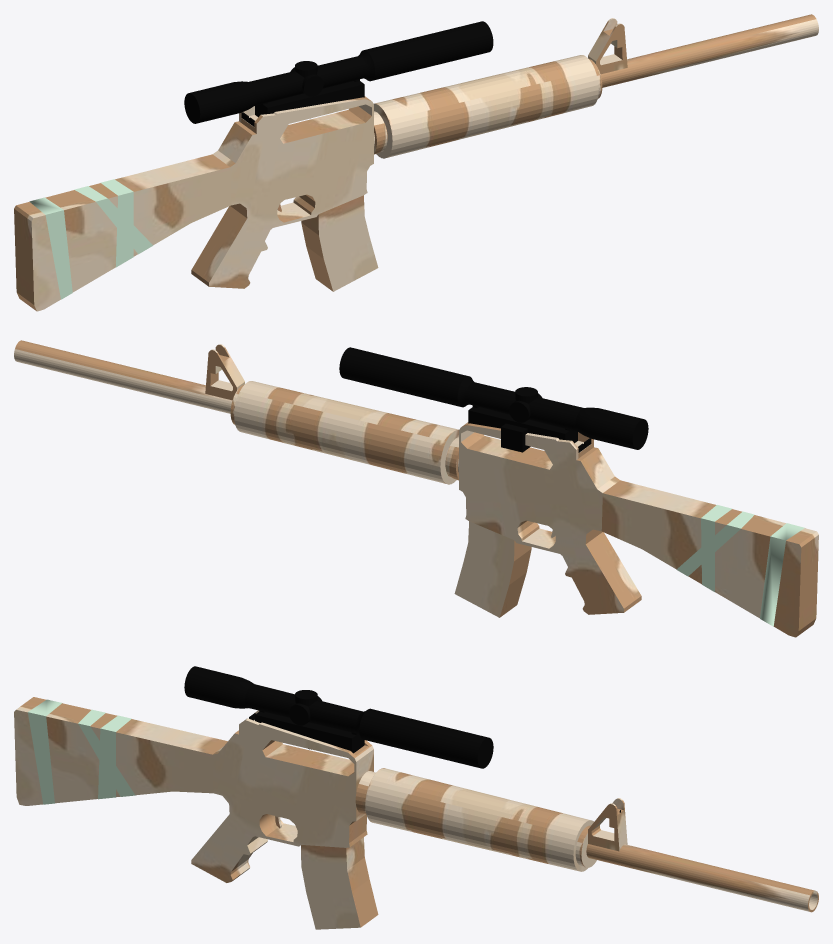
Rendered from M16_Sniper.obj.
The picture shows the model from 3 angles, top to bottom: view 1: azimuth 30°, elevation 25°; view 2: azimuth 150°, elevation 25°; view 3: azimuth 330°, elevation 25°; orthographic projection.
Parts seen in each view (by area): view 1: Рукоять_, Приклад, Рукоять, Прицел, Магазин, Дуло, Обмотка_на_прикладе, Стойка_Для_Мушки; view 2: Рукоять_, Приклад, Рукоять, Прицел, Магазин, Дуло, Обмотка_на_прикладе, Стойка_Для_Мушки; view 3: Рукоять_, Приклад, Рукоять, Прицел, Магазин, Дуло, Обмотка_на_прикладе, Стойка_Для_Мушки.
Boxes of the visible parts, left/top/right/bottom form: Рукоять_: left=191, top=96, right=373, bottom=288; Приклад: left=14, top=154, right=231, bottom=311; Рукоять: left=374, top=55, right=598, bottom=158; Прицел: left=184, top=21, right=493, bottom=126; Магазин: left=301, top=195, right=378, bottom=291; Дуло: left=600, top=14, right=818, bottom=87; Обмотка_на_прикладе: left=29, top=179, right=152, bottom=299; Стойка_Для_Мушки: left=588, top=18, right=627, bottom=74; Рукоять_: left=459, top=422, right=641, bottom=614; Приклад: left=601, top=480, right=818, bottom=637; Рукоять: left=234, top=381, right=458, bottom=484; Прицел: left=339, top=347, right=648, bottom=452; Магазин: left=454, top=521, right=531, bottom=617; Дуло: left=14, top=340, right=232, bottom=413; Обмотка_на_прикладе: left=676, top=505, right=804, bottom=626; Стойка_Для_Мушки: left=205, top=344, right=244, bottom=400; Рукоять_: left=191, top=710, right=373, bottom=882; Приклад: left=14, top=697, right=227, bottom=805; Рукоять: left=365, top=768, right=593, bottom=871; Прицел: left=184, top=666, right=493, bottom=768; Магазин: left=301, top=837, right=378, bottom=929; Дуло: left=586, top=844, right=818, bottom=912; Обмотка_на_прикладе: left=27, top=699, right=135, bottom=804; Стойка_Для_Мушки: left=588, top=798, right=627, bottom=851.
Size of the model in its own units: 25.86 by 7.01 by 1.54.
18 materials, 9 textured.
